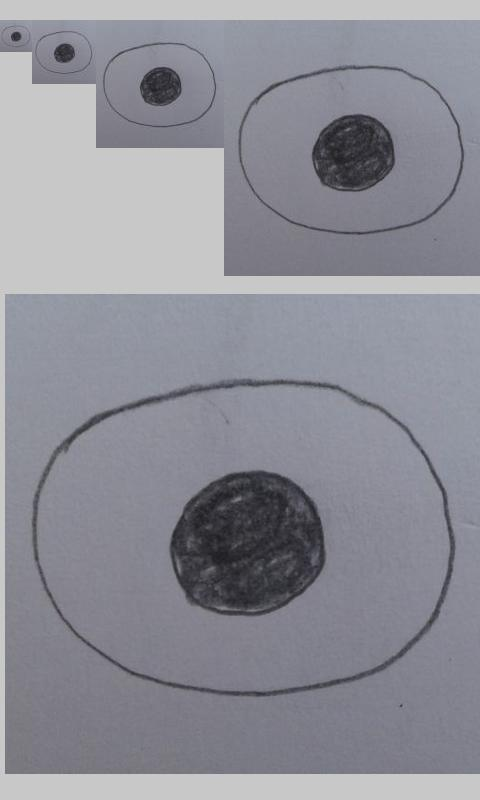radio_button: (29, 375, 460, 701), (236, 62, 465, 236), (102, 41, 217, 128), (35, 29, 93, 75), (1, 24, 31, 48)
